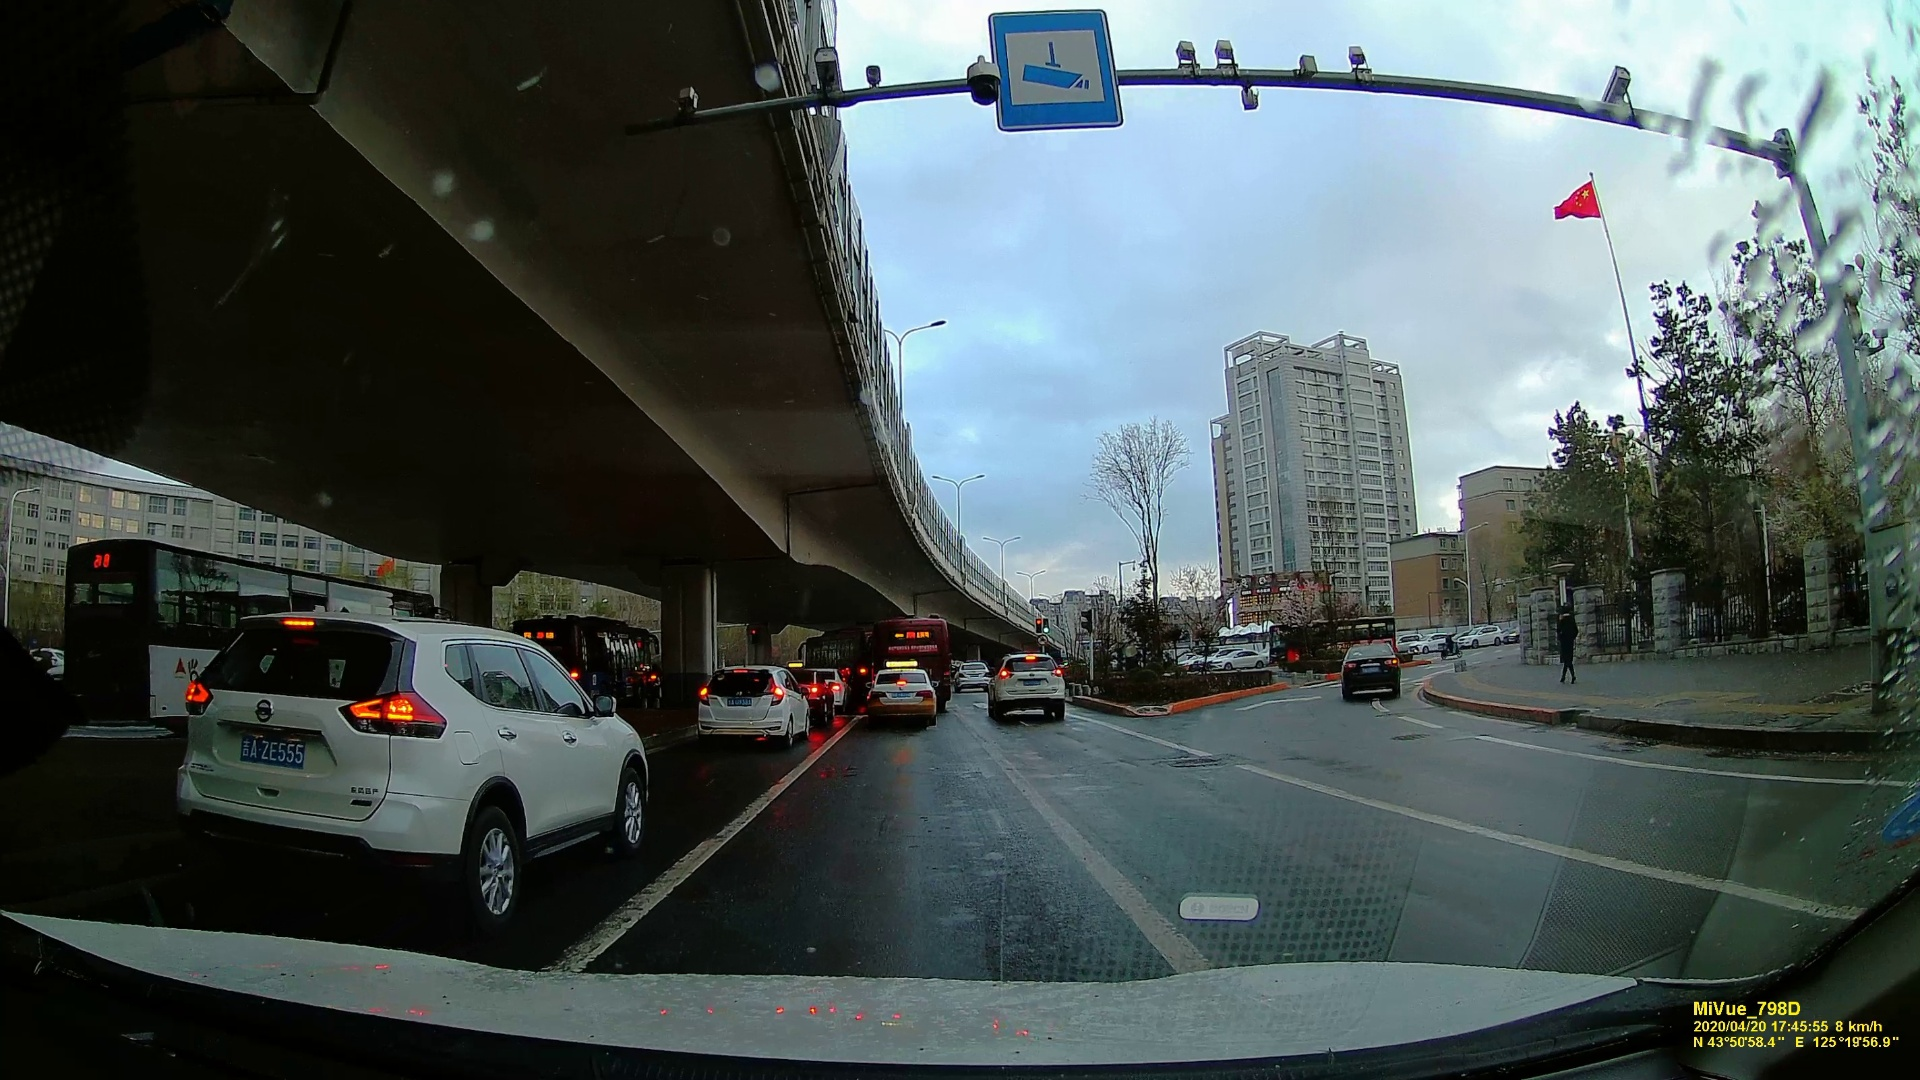bus: (64, 540, 438, 730), (871, 616, 946, 695)
person: (1544, 602, 1584, 688)
traffic_sign: (982, 11, 1126, 128)
vehicle: (162, 593, 653, 901), (695, 662, 810, 743), (988, 649, 1068, 719), (862, 668, 937, 722), (1340, 642, 1406, 697)
